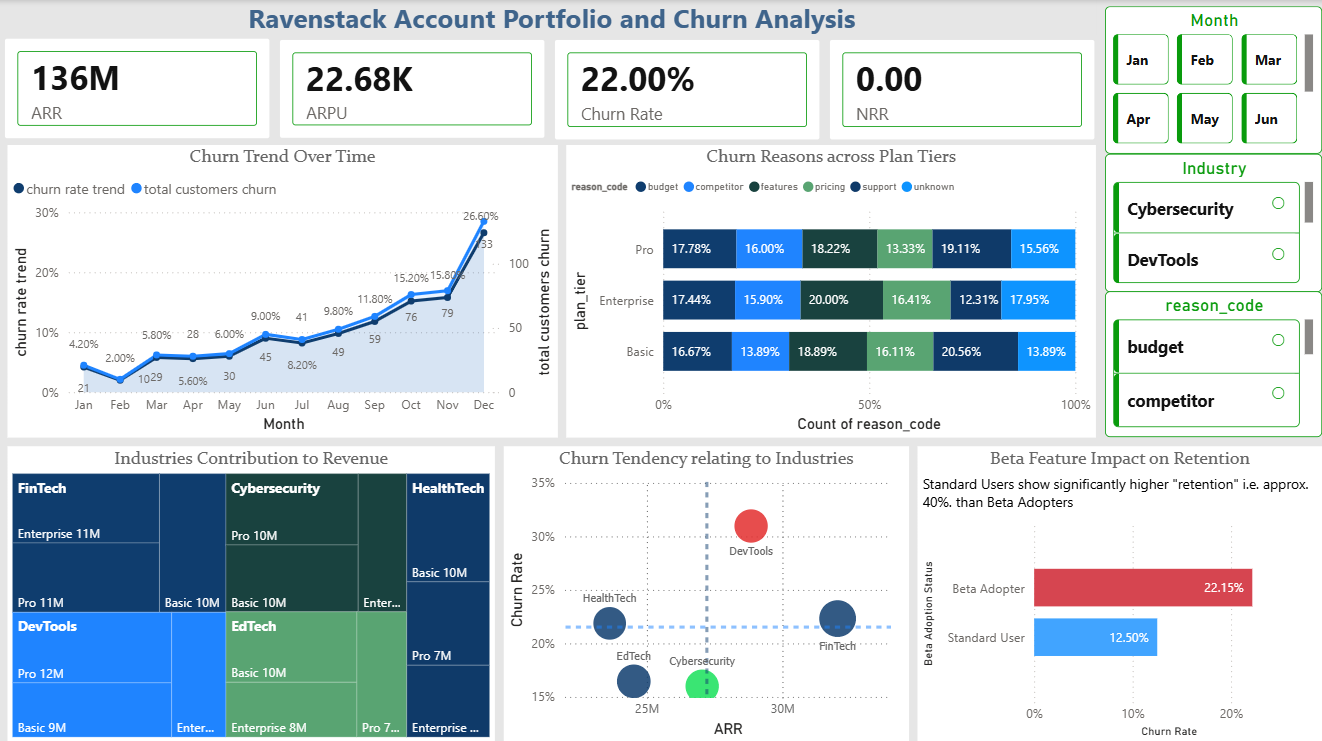

Layout of this report page (visuals, bound fields, positions):
{"tool":"powerbi","page":{"name":"Page 1","canvas":[1280,720],"ordinal":0},"visuals":[{"type":"cardVisual","fields":{"Data":["DateTable.ARR"]},"box":[0,32.6,265.4,106.2],"z":0},{"type":"cardVisual","fields":{"Data":["DateTable.ARPU"]},"box":[265.4,33.8,265.4,105],"z":1000},{"type":"cardVisual","fields":{"Data":["DateTable.Churn Rate"]},"box":[530.8,33.8,265.4,106.2],"z":2000},{"type":"cardVisual","fields":{"Data":["DateTable.NRR"]},"box":[796.3,33.8,265.4,106.2],"z":3000},{"type":"lineChart","title":"Churn Trend Over  Time ","fields":{"Category":["DateTable.Year","DateTable.Quarter","DateTable.Month"],"Y":["DateTable.churn rate trend"],"Y2":["DateTable.total churn"]},"box":[7.2,139.9,530.8,282.3],"z":4000},{"type":"hundredPercentStackedBarChart","title":"Churn Reasons across Plan Tiers","fields":{"Category":["ravenstack_accounts.plan_tier"],"Y":["CountNonNull(ravenstack_churn_events.reason_code)","select"],"Series":["ravenstack_churn_events.reason_code"]},"box":[546.5,139.9,511.5,282.3],"z":5000},{"type":"scatterChart","title":"Churn Tendency relating to Industries ","fields":{"Category":["ravenstack_accounts.industry"],"X":["DateTable.ARR"],"Y":["DateTable.Churn Rate"],"Size":["Sum(ravenstack_accounts.seats)"]},"box":[486.2,430.7,390.9,285.9],"z":6000},{"type":"clusteredBarChart","title":"Beta Feature Impact on Retention","fields":{"Category":["ravenstack_accounts.Beta Adoption Status"],"Y":["DateTable.Churn Rate"]},"box":[885.5,430.7,390.9,285.9],"z":7000},{"type":"treemap","title":"Industries Contribution to Revenue","fields":{"Group":["ravenstack_accounts.industry"],"Values":["DateTable.ARR"],"Details":["ravenstack_accounts.plan_tier"]},"box":[7.2,430.7,470.5,285.9],"z":8000},{"type":"advancedSlicerVisual","fields":{"Values":["DateTable.Month"]},"box":[1066.5,6,209.9,142.4],"z":9000},{"type":"advancedSlicerVisual","title":"Industry","fields":{"Values":["ravenstack_accounts.industry"]},"box":[1066.7,148.1,209.9,133.3],"z":10000},{"type":"advancedSlicerVisual","fields":{"Values":["ravenstack_churn_events.reason_code"]},"box":[1066.5,281.1,209.9,141.2],"z":11000},{"type":"shape","box":[7.2,0,1050.8,33.8],"z":12000}]}

Visuals, with their boxes in screenshot pixels (x1, y1, x2, y2), scaled from the page's 1280x720 canvas onto the 1322x741 screenshot:
cardVisual - DateTable.ARR: (0,34,274,143)
cardVisual - DateTable.ARPU: (274,35,548,143)
cardVisual - DateTable.Churn Rate: (548,35,822,144)
cardVisual - DateTable.NRR: (822,35,1097,144)
"Churn Trend Over  Time " lineChart: (7,144,556,435)
"Churn Reasons across Plan Tiers" hundredPercentStackedBarChart: (564,144,1093,435)
"Churn Tendency relating to Industries " scatterChart: (502,443,906,738)
"Beta Feature Impact on Retention" clusteredBarChart: (915,443,1318,738)
"Industries Contribution to Revenue" treemap: (7,443,493,738)
advancedSlicerVisual - DateTable.Month: (1101,6,1318,153)
"Industry" advancedSlicerVisual: (1102,152,1318,290)
advancedSlicerVisual - ravenstack_churn_events.reason_code: (1101,289,1318,435)
shape: (7,0,1093,35)
